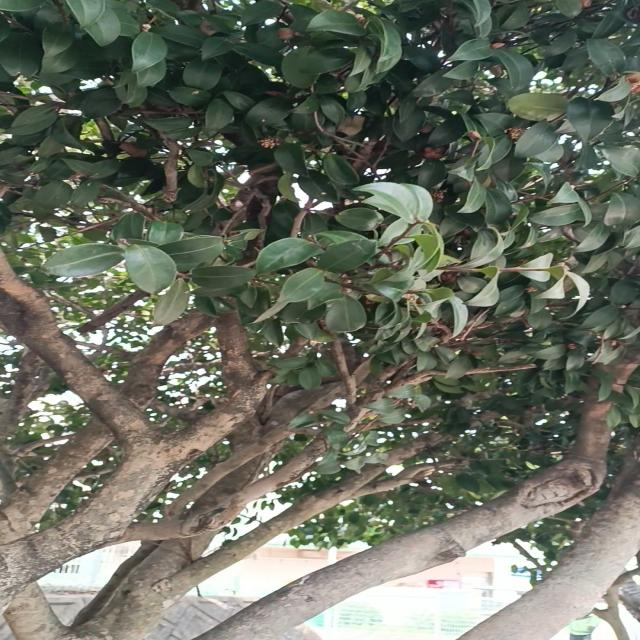Branch: (196, 342, 634, 640), (0, 246, 178, 607), (3, 309, 203, 527), (470, 448, 640, 640), (176, 301, 265, 463)
Twig: (149, 410, 499, 621), (131, 355, 422, 537), (166, 361, 369, 519)
